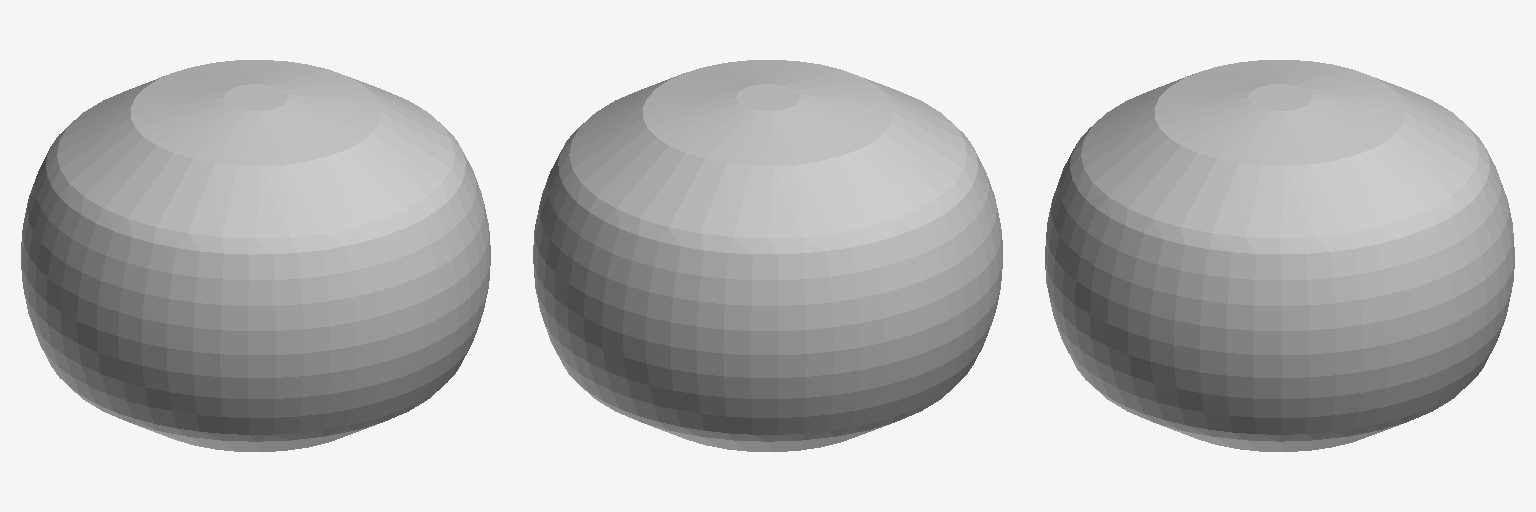
Rendered from l_wheel_link_collision.obj.
3 views of the same model, side by side, from view 1: azimuth 30°, elevation 25°; view 2: azimuth 150°, elevation 25°; view 3: azimuth 270°, elevation 25° (orthographic).
Size of the model in its own units: 0.1206 by 0.0895 by 0.1206.